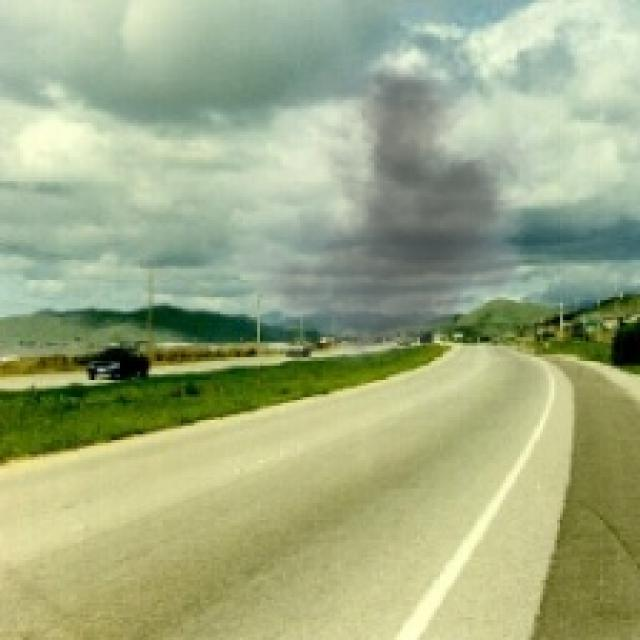smoke: (194, 37, 563, 380)
